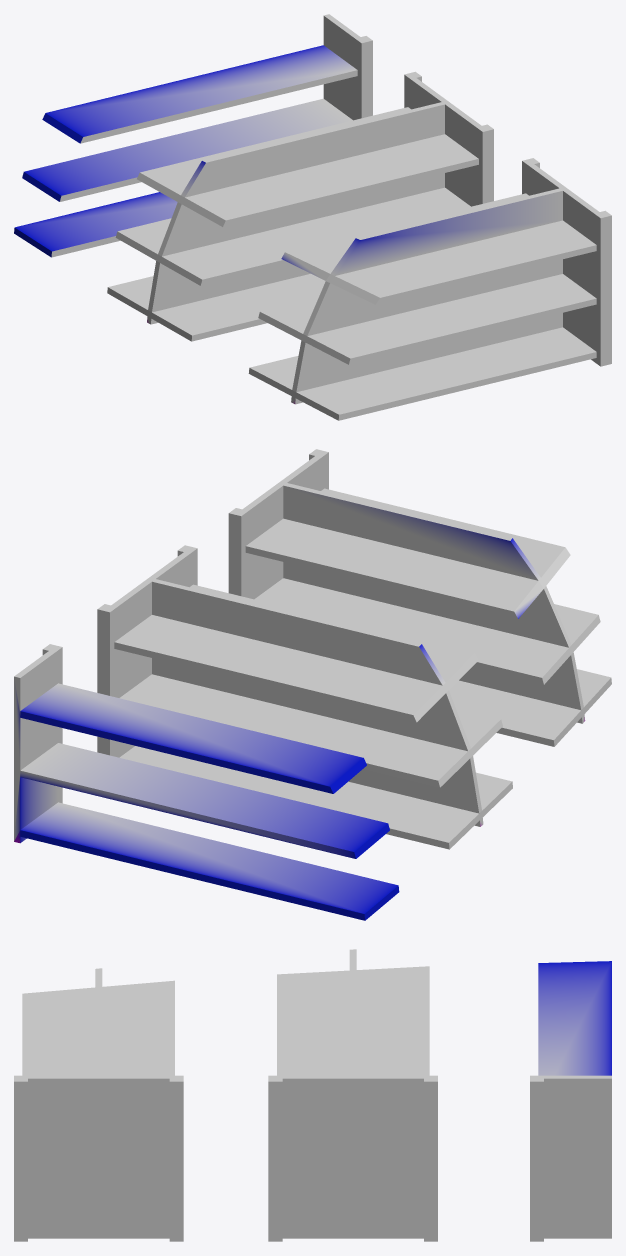
File: StorageShelves.fbx
3 views of the same model, one above another, from view 1: azimuth 30°, elevation 25°; view 2: azimuth 150°, elevation 25°; view 3: azimuth 270°, elevation 25° (orthographic). The views are drawn at different scales.
Parts seen in each view (by area): view 1: Shelfs; view 2: Shelfs; view 3: Shelfs.
Boxes of the visible parts, x1=… form: Shelfs: x1=14, y1=14, x2=611, y2=420; Shelfs: x1=14, y1=449, x2=611, y2=920; Shelfs: x1=14, y1=949, x2=611, y2=1241.
Size of the model in its own units: 566 by 250 by 846.
